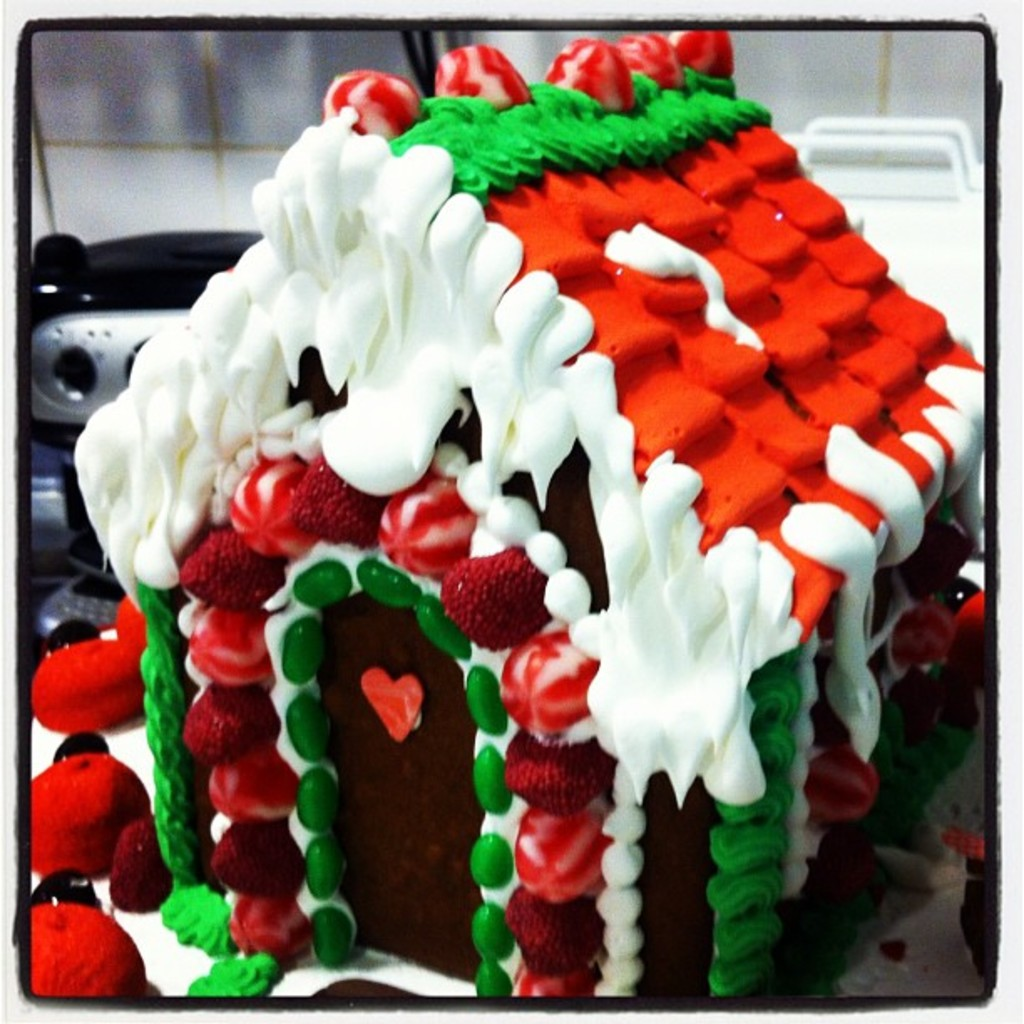cake: (18, 22, 992, 1001)
